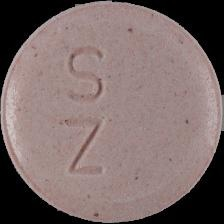0781-5313: (0, 0, 224, 224)
